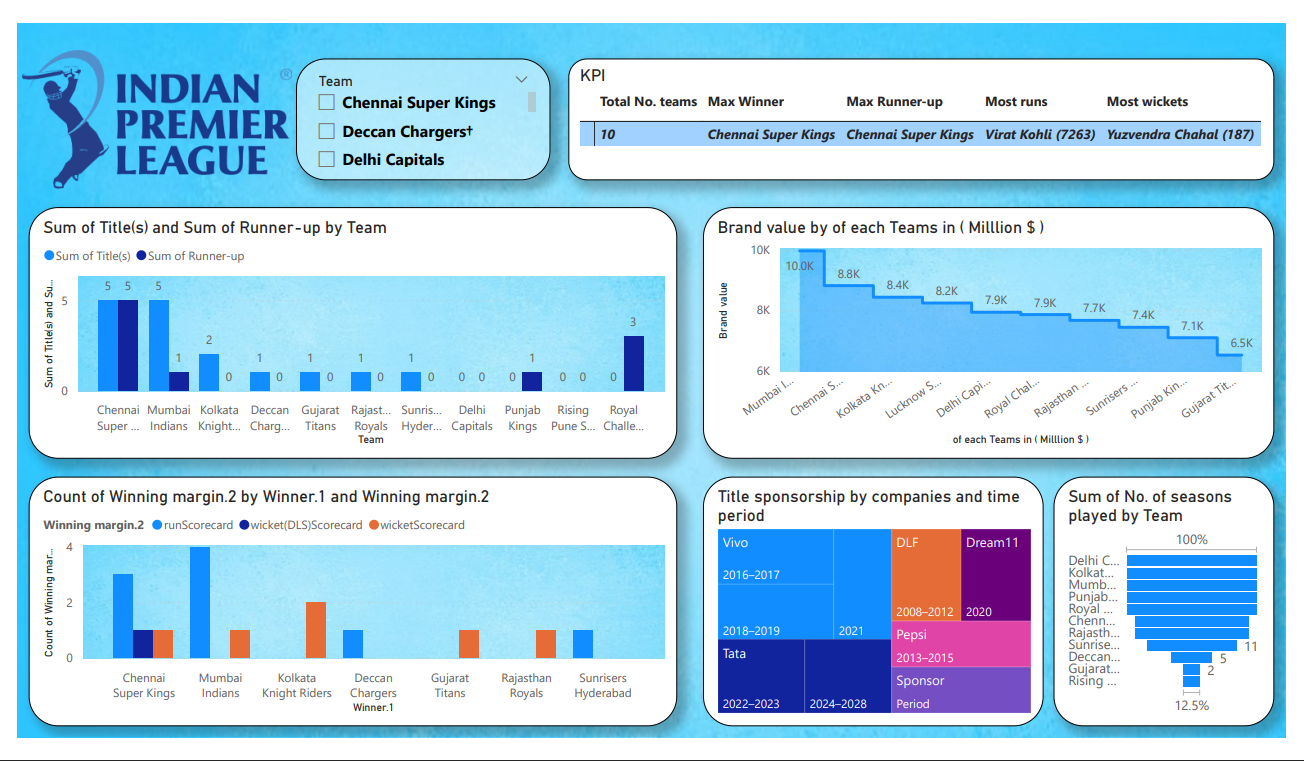

What the dashboard file says about the page in this screenshot:
{"tool":"powerbi","page":{"name":"Page 1","canvas":[1280,720],"ordinal":0},"visuals":[{"type":"funnel","fields":{"Y":["Number of titles.No. of seasons played"],"Category":["Number of titles.Team"]},"box":[1045.6,457.1,223.1,252.1],"z":0},{"type":"clusteredColumnChart","fields":{"Category":["Number of titles.Team"],"Y":["Number of titles.Title(s)","Number of titles.Runner-up"]},"box":[10.9,184.5,654.9,254.5],"z":1000},{"type":"treemap","fields":{"Values":["Title sponsorship fees[86].Column3"],"Group":["Title sponsorship fees[86].Column1"],"Details":["Title sponsorship fees[86].Column2"]},"box":[692.3,457.1,343.7,252.1],"z":2000},{"type":"lineClusteredColumnComboChart","fields":{"Category":["Finals.Winner.1"],"Y":["Finals.Winning margin.2"],"Series":["Finals.Winning margin.2"]},"box":[10.9,457.1,654.9,252.1],"z":3000},{"type":"pivotTable","title":"KPI","fields":{"Values":["Indian Premier League.Column10","Finals.First Winner.1 max per Team","Finals.First Runner-up.1 max per Team","Indian Premier League.Column13","Indian Premier League.Column14"]},"box":[556,35,712.8,123],"z":4000},{"type":"areaChart","fields":{"Category":["Brand value.Column1"],"Y":["Brand value.Column2"]},"box":[692.3,184.5,576.5,254.5],"z":5000},{"type":"slicer","fields":{"Values":["Number of titles.Team"]},"box":[281,35,256.9,123],"z":6000},{"type":"image","box":[0,0,281,193],"z":6001}]}

Visuals, with their boxes in screenshot pixels (x1, y1, x2, y2):
funnel - Number of titles.No. of seasons played x Number of titles.Team: region(1057, 476, 1281, 729)
clusteredColumnChart - Number of titles.Team x Number of titles.Title(s): region(18, 202, 676, 458)
treemap - Title sponsorship fees[86].Column3 x Title sponsorship fees[86].Column1: region(702, 476, 1048, 729)
lineClusteredColumnComboChart - Finals.Winner.1 x Finals.Winning margin.2: region(18, 476, 676, 729)
"KPI" pivotTable: region(565, 52, 1282, 176)
areaChart - Brand value.Column1 x Brand value.Column2: region(702, 202, 1282, 458)
slicer - Number of titles.Team: region(289, 52, 547, 176)
image: region(7, 17, 289, 211)
